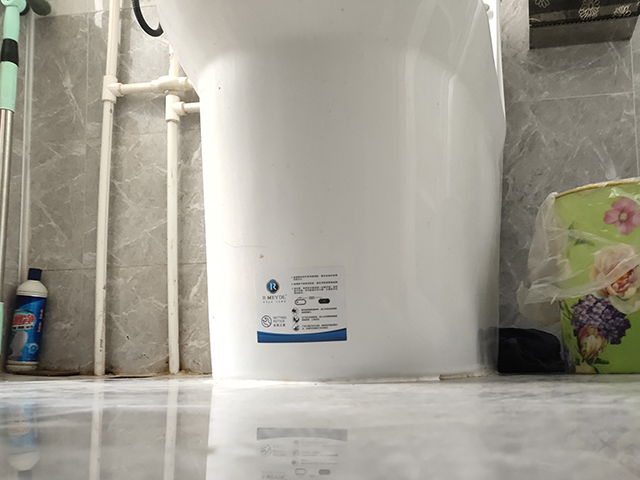closestool: (149, 1, 508, 384)
trashcan: (544, 176, 640, 376)
